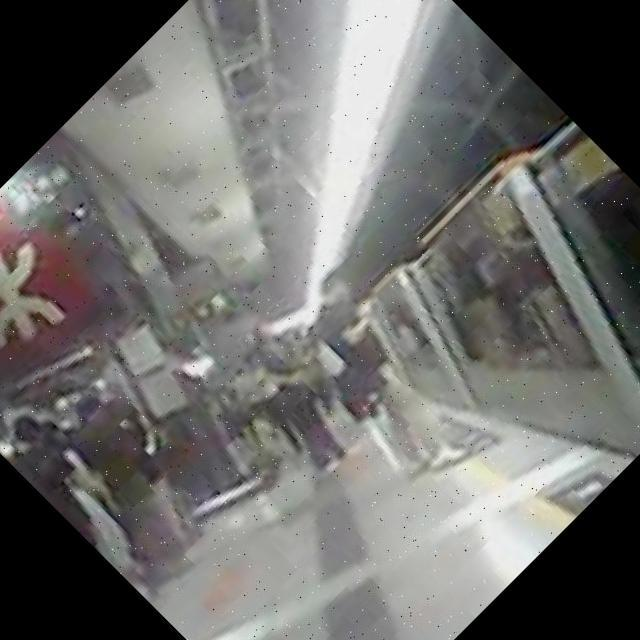person: (268, 264, 494, 491), (0, 402, 191, 604), (214, 312, 380, 476)
